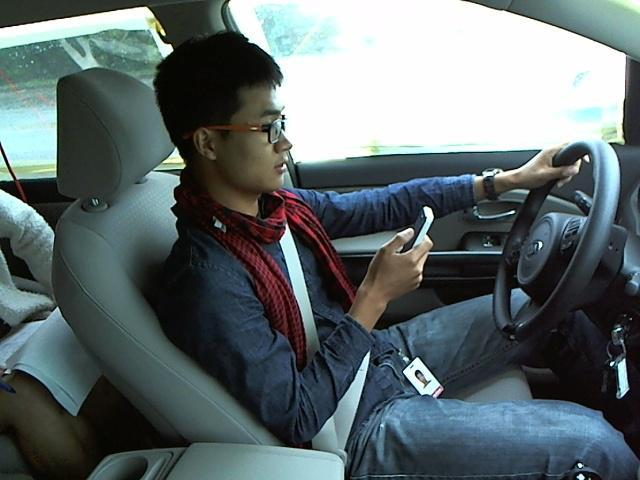PhoneUse: (394, 202, 439, 270)
